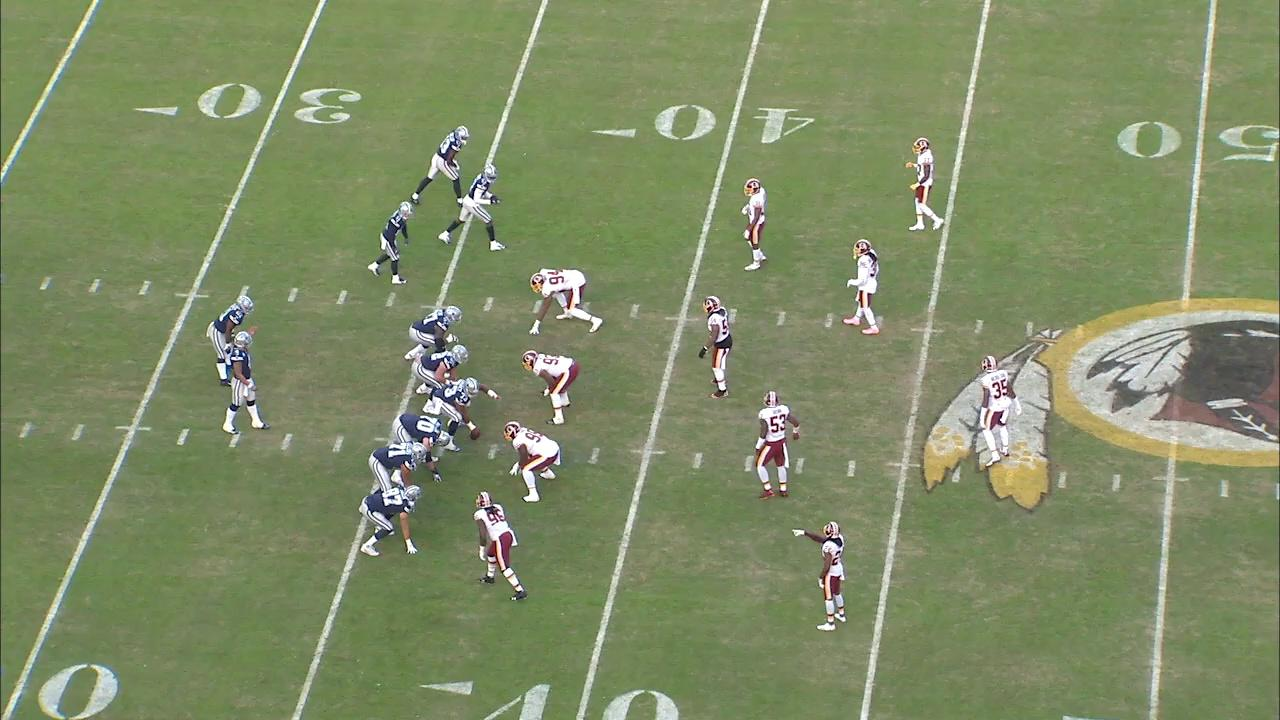player: (793, 517, 848, 629), (740, 393, 801, 493), (521, 263, 609, 331), (498, 421, 566, 501), (975, 351, 1021, 469), (476, 494, 524, 602), (356, 483, 421, 562), (223, 331, 270, 437), (441, 166, 500, 248), (412, 123, 469, 207), (517, 350, 578, 427), (364, 201, 412, 287), (396, 410, 454, 481), (698, 293, 735, 401), (404, 303, 466, 366), (843, 238, 884, 333), (732, 178, 773, 272), (209, 295, 251, 386), (441, 376, 497, 436), (909, 137, 944, 232), (366, 441, 429, 485), (419, 347, 470, 395)
